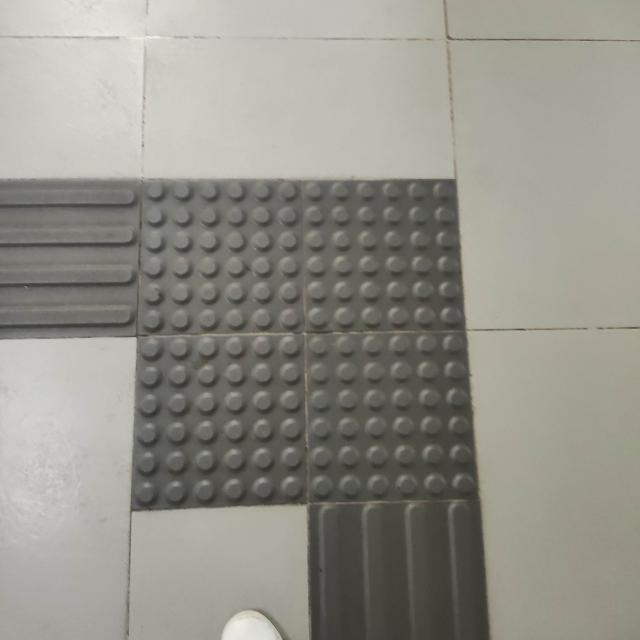kiri: (0, 125, 580, 588)
